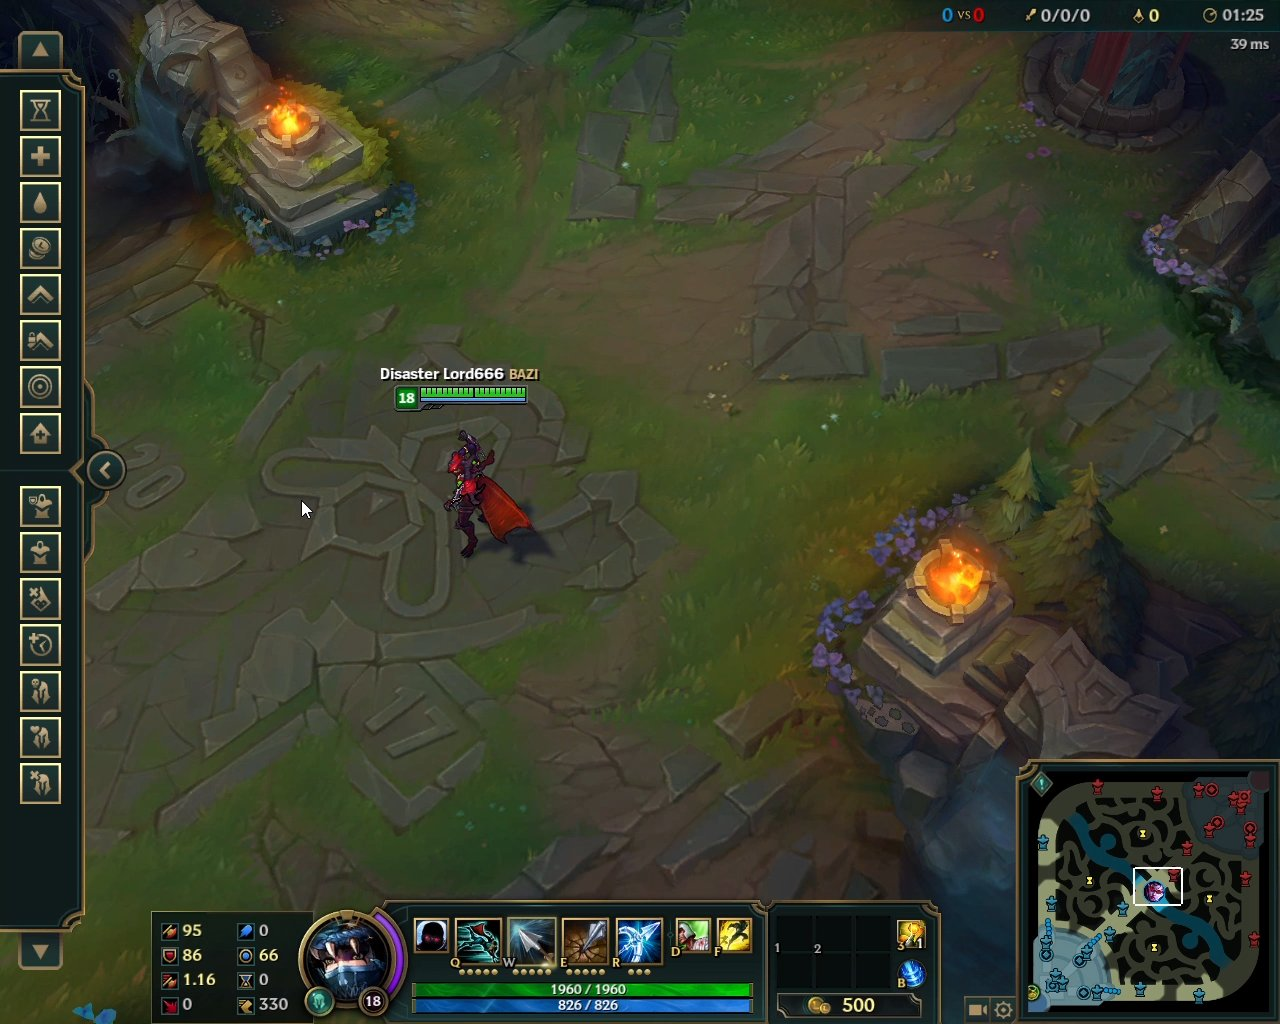Vayne: (439, 424, 541, 563)
